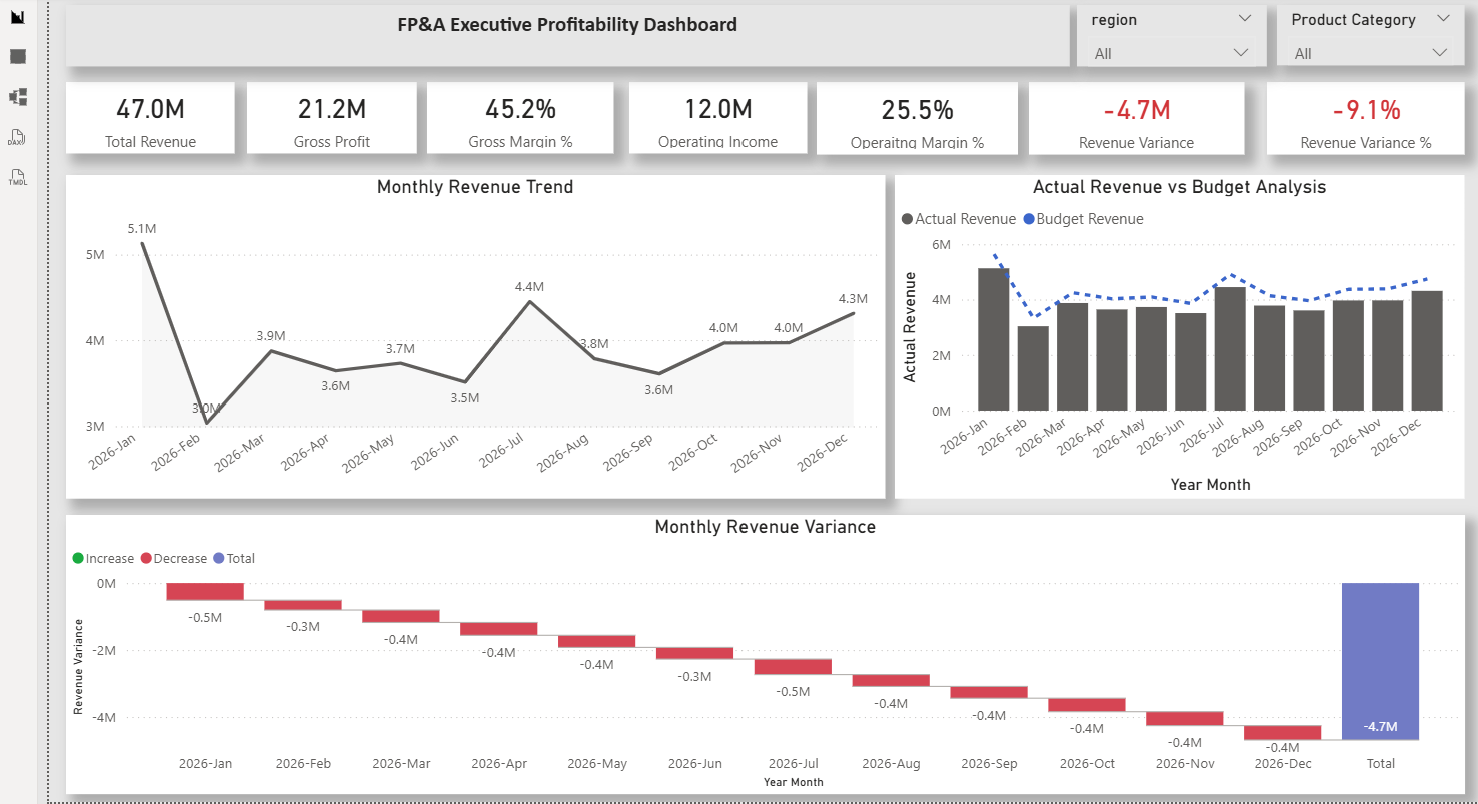

The page's visual inventory and layout, read from the dashboard file:
{"tool":"powerbi","page":{"name":"Executive Overview","canvas":[1280,720],"ordinal":0},"visuals":[{"type":"card","fields":{"Values":["vw_profitability_kpis.Total Revenue"]},"box":[15,75.8,151.3,63.6],"z":0},{"type":"card","fields":{"Values":["vw_profitability_kpis.Gross Profit"]},"box":[177.1,75.8,152.2,63.6],"z":1000},{"type":"card","fields":{"Values":["vw_profitability_kpis.Gross Margin %"]},"box":[338.2,75.8,167.5,63.6],"z":2000},{"type":"card","fields":{"Values":["vw_profitability_kpis.Operating Income"]},"box":[519.1,75.8,158.5,64.5],"z":3000},{"type":"card","fields":{"Values":["vw_profitability_kpis.Operaitng Margin %"]},"box":[686.6,75.8,180,65.4],"z":4000},{"type":"card","fields":{"Values":["vw_actual_vs_budget.Revenue Variance"]},"box":[876.5,75.8,192.5,65.4],"z":5000},{"type":"card","fields":{"Values":["vw_actual_vs_budget.Revenue Variance %"]},"box":[1089.6,75.8,177.3,65.4],"z":6000},{"type":"textbox","box":[15,7,897.9,54.9],"z":7000},{"type":"lineChart","title":"Monthly Revenue Trend","fields":{"Y":["vw_profitability_kpis.Total Revenue"],"Category":["dim_date.Year Month"]},"box":[15.1,159.2,732.7,289.3],"z":8000},{"type":"waterfallChart","title":"Monthly Revenue Variance","fields":{"Category":["dim_date.Year Month"],"Y":["vw_actual_vs_budget.Revenue Variance"]},"box":[15.2,463,1251.9,249.9],"z":9000},{"type":"slicer","title":"Region","fields":{"Values":["dim_region.region_name"]},"box":[919.8,7,169.6,54.9],"z":10000},{"type":"slicer","title":"Product Category","fields":{"Values":["dim_product.category"]},"box":[1098.6,7.1,168.3,54.4],"z":11000},{"type":"lineClusteredColumnComboChart","title":"Actual Revenue vs Budget Analysis","fields":{"Y":["vw_profitability_kpis.Total Revenue"],"Category":["dim_date.Year Month"],"Y2":["vw_actual_vs_budget.Total Budget Revenue"]},"box":[756.9,159.2,510,289.3],"z":12000}]}

Visuals, with their boxes on the page's 1280x720 design canvas (x1, y1, x2, y2). These are canvas units, not pixel positions in the 1478x804 screenshot, which may show the page scaled, cropped or inside an application window:
card - vw_profitability_kpis.Total Revenue: rect(15, 76, 166, 139)
card - vw_profitability_kpis.Gross Profit: rect(177, 76, 329, 139)
card - vw_profitability_kpis.Gross Margin %: rect(338, 76, 506, 139)
card - vw_profitability_kpis.Operating Income: rect(519, 76, 678, 140)
card - vw_profitability_kpis.Operaitng Margin %: rect(687, 76, 867, 141)
card - vw_actual_vs_budget.Revenue Variance: rect(876, 76, 1069, 141)
card - vw_actual_vs_budget.Revenue Variance %: rect(1090, 76, 1267, 141)
textbox: rect(15, 7, 913, 62)
"Monthly Revenue Trend" lineChart: rect(15, 159, 748, 448)
"Monthly Revenue Variance" waterfallChart: rect(15, 463, 1267, 713)
"Region" slicer: rect(920, 7, 1089, 62)
"Product Category" slicer: rect(1099, 7, 1267, 62)
"Actual Revenue vs Budget Analysis" lineClusteredColumnComboChart: rect(757, 159, 1267, 448)
